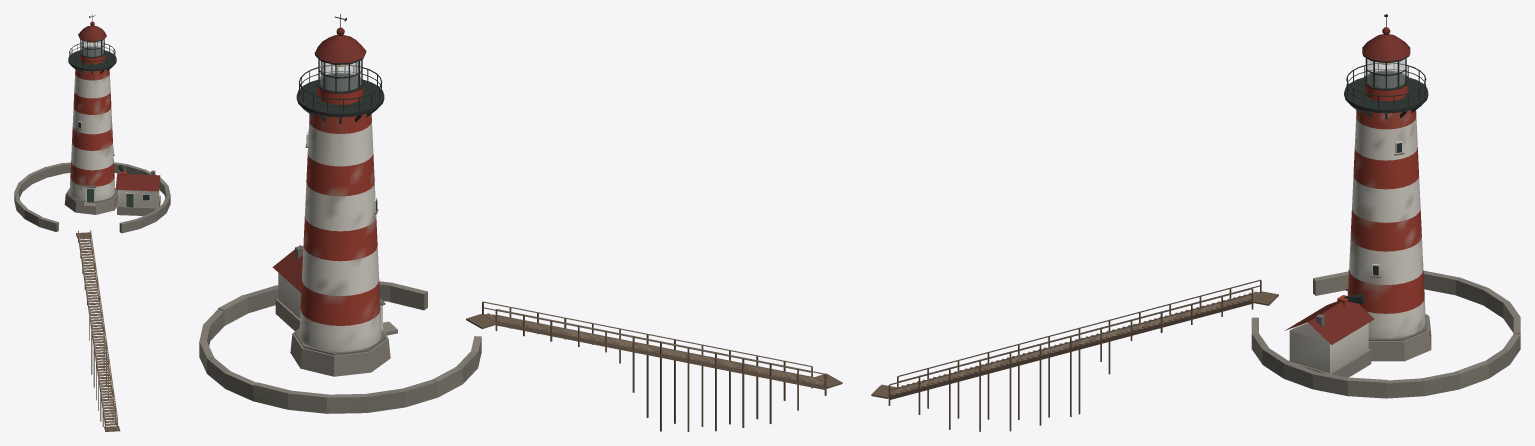
The model's file is lighthouse.glb.
The picture shows the model from 3 angles, left to right: view 1: azimuth 30°, elevation 25°; view 2: azimuth 150°, elevation 25°; view 3: azimuth 270°, elevation 25°; orthographic projection. The views are drawn at different scales.
Visible parts, largest first — view 1: lighthouse, lighthouse_stairs; view 2: lighthouse, lighthouse_stairs; view 3: lighthouse, lighthouse_stairs.
Boxes of the visible parts, x1,y1,x2,y2 form: lighthouse: [14, 14, 170, 233]; lighthouse_stairs: [76, 230, 120, 431]; lighthouse: [199, 14, 481, 413]; lighthouse_stairs: [466, 301, 842, 431]; lighthouse: [1251, 14, 1520, 398]; lighthouse_stairs: [871, 279, 1278, 431].
Size of the model in its own units: 30.97 by 42.93 by 50.1.
